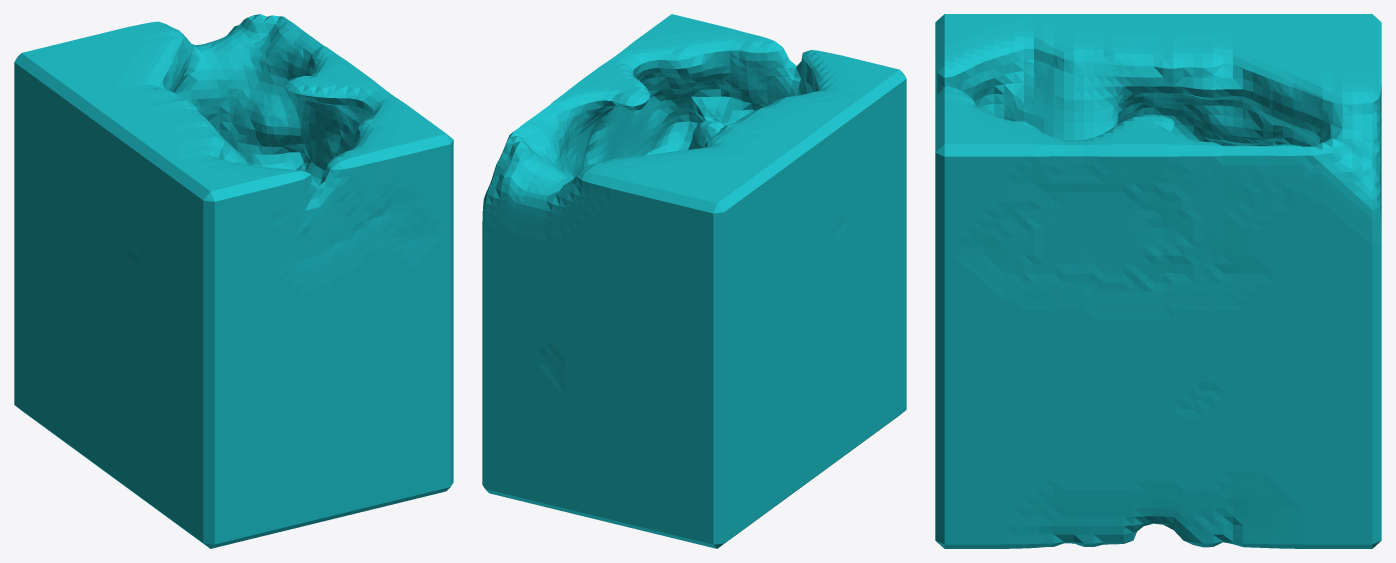
3 views of the same model, side by side, from view 1: azimuth 30°, elevation 25°; view 2: azimuth 150°, elevation 25°; view 3: azimuth 270°, elevation 25° (orthographic). The views are drawn at different scales.
Visible parts, largest first — view 1: Liquid_Domain; view 2: Liquid_Domain; view 3: Liquid_Domain.
Boxes of the visible parts, bbox=[...] form: Liquid_Domain: bbox=[14, 14, 453, 548]; Liquid_Domain: bbox=[482, 14, 906, 548]; Liquid_Domain: bbox=[935, 14, 1381, 548].
Bounding box in the file's own units: 79.09 × 108 × 108.
